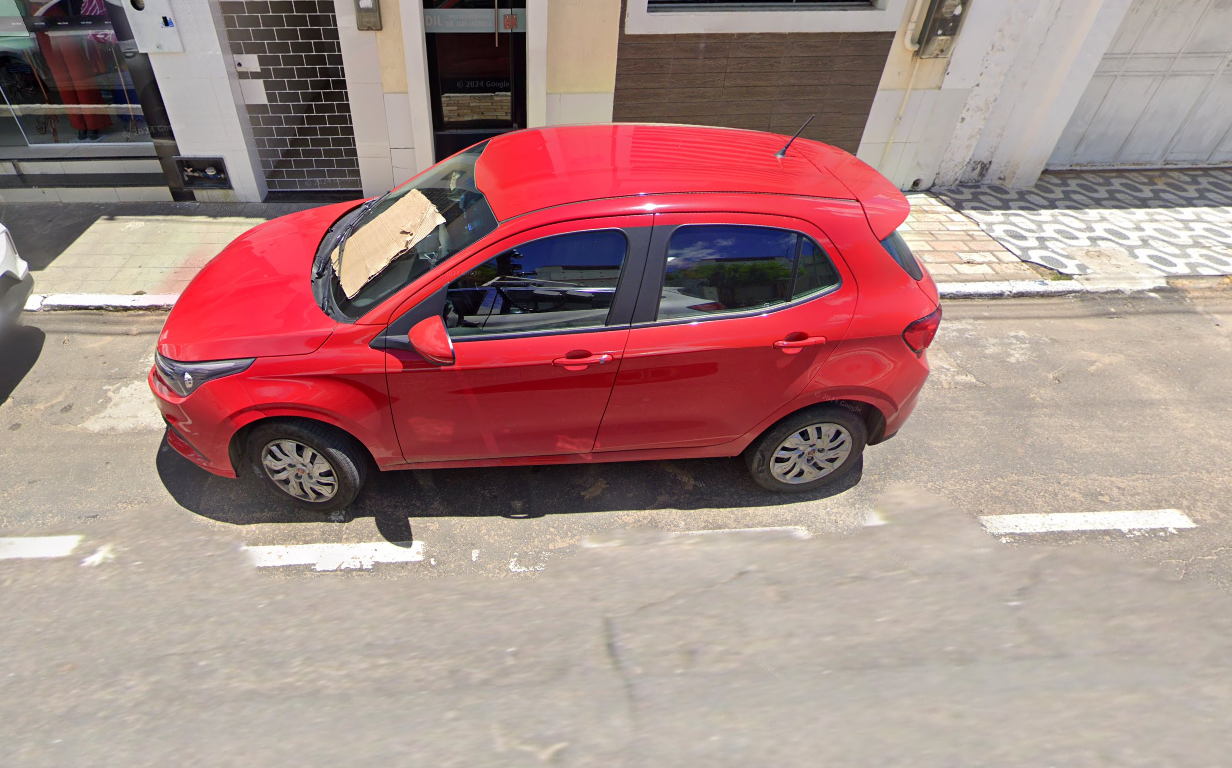car: (148, 107, 948, 528)
